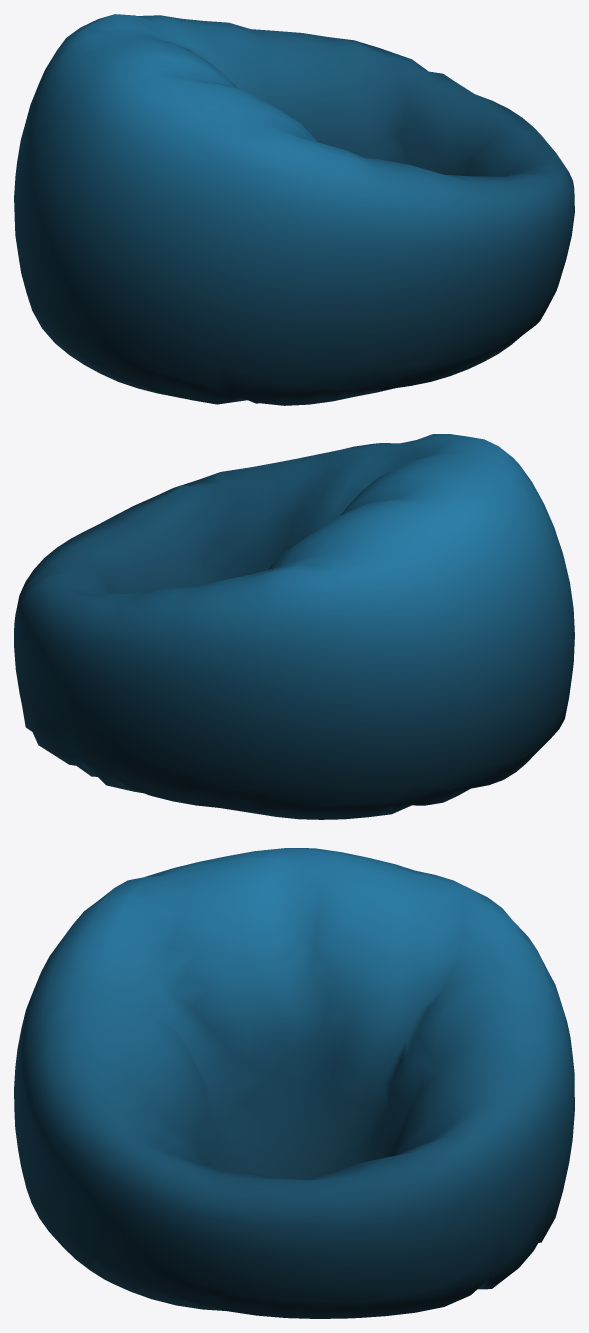
File: SM_puf2.fbx
The picture shows the model from 3 angles, top to bottom: view 1: azimuth 30°, elevation 25°; view 2: azimuth 150°, elevation 25°; view 3: azimuth 270°, elevation 25°; orthographic projection. The views are drawn at different scales.
Parts seen in each view (by area): view 1: bean bag low poly.001; view 2: bean bag low poly.001; view 3: bean bag low poly.001.
Boxes of the visible parts, x1,y1,x2,y2 form: bean bag low poly.001: [14, 14, 574, 405]; bean bag low poly.001: [14, 434, 574, 819]; bean bag low poly.001: [14, 848, 574, 1318].
Size of the model in its own units: 192 by 99.62 by 181.
